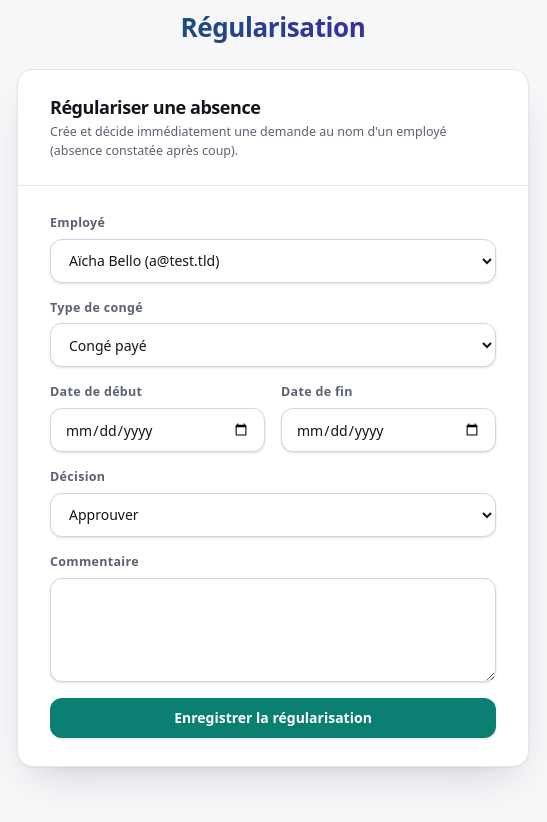
Test: RegularisationPage › exige un commentaire en cas de refus
The width and height of the screenshot is (547, 822).
Check: the dropdown labelled "Employé" is shown, box [50,238,496,282]
Select "Refuser" in the dropdown labelled "Décision" at [273, 515], box [50,493,496,537]
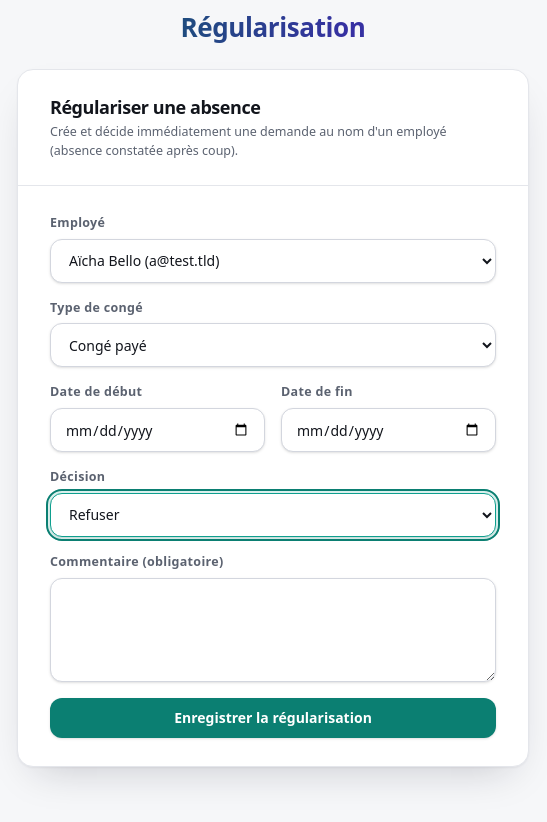
Type "2026-10-01" into the date field labelled "Date de début" at [158, 430], box [50,408,265,452]
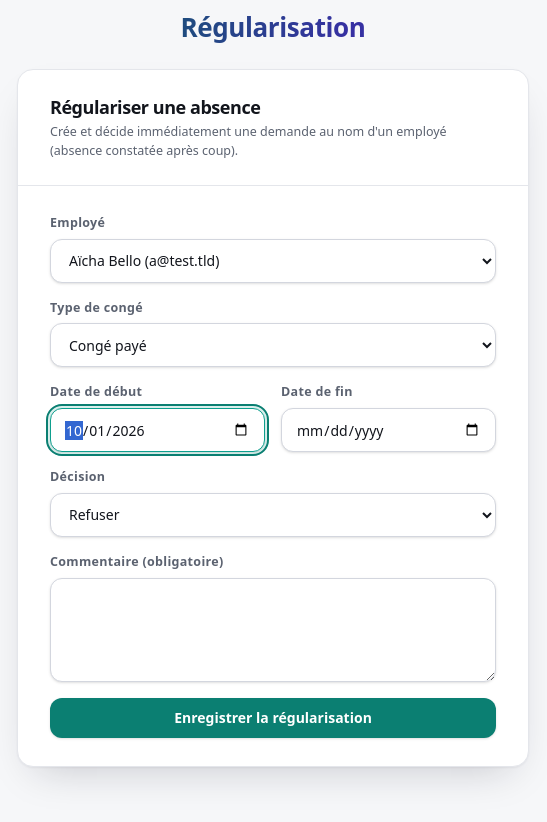
Type "2026-10-02" into the date field labelled "Date de fin" at [388, 430], box [281,408,496,452]
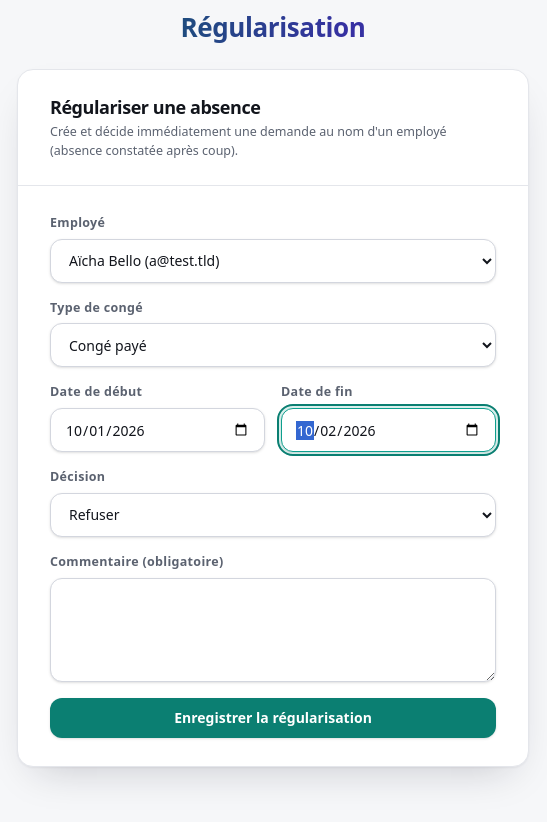
Click the button "Enregistrer la régularisation" at [273, 718], box [50,698,496,738]
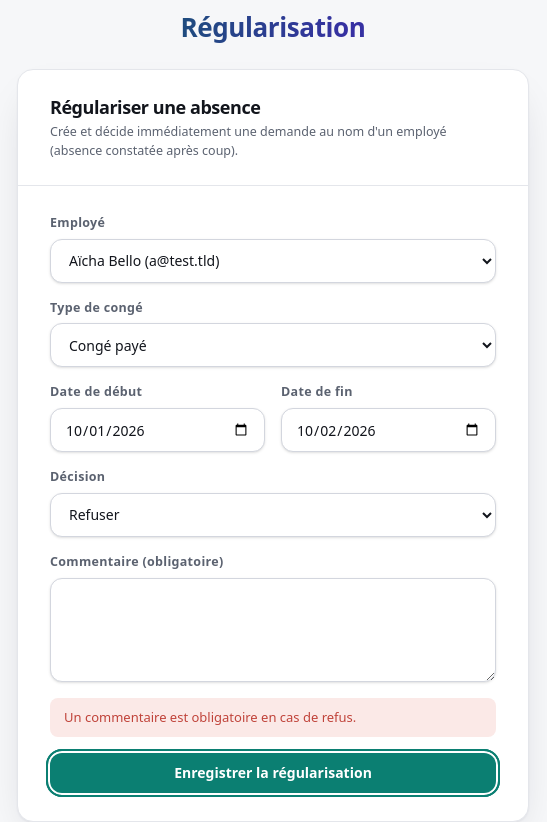
Check: the text "Un commentaire est obligatoire en cas de refus." is shown, box [50,698,496,737]
